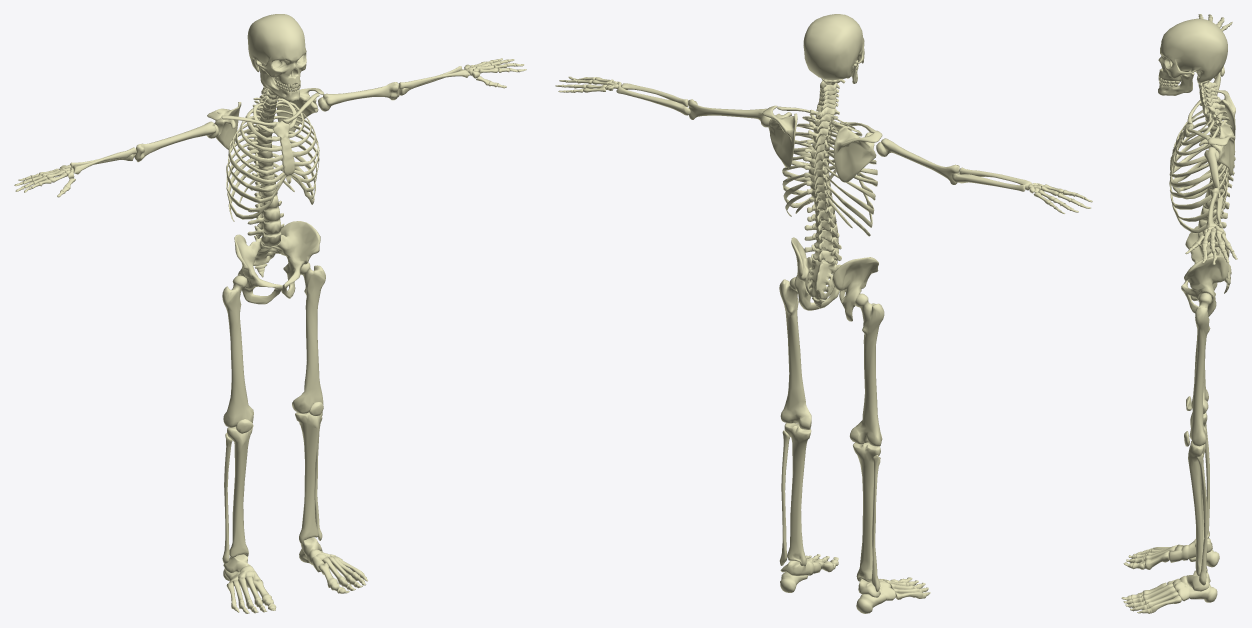
The model's file is asset.glb.
The picture shows the model from 3 angles, left to right: view 1: azimuth 30°, elevation 25°; view 2: azimuth 150°, elevation 25°; view 3: azimuth 270°, elevation 25°; orthographic projection. The views are drawn at different scales.
Visible parts, largest first — view 1: Male_Skeleton_64406.Shape-reduced; view 2: Male_Skeleton_64406.Shape-reduced; view 3: Male_Skeleton_64406.Shape-reduced.
Boxes of the visible parts, bbox=[...] form: Male_Skeleton_64406.Shape-reduced: bbox=[14, 14, 526, 613]; Male_Skeleton_64406.Shape-reduced: bbox=[555, 14, 1092, 613]; Male_Skeleton_64406.Shape-reduced: bbox=[1121, 14, 1237, 613].
Size of the model in its own units: 42348 by 44425 by 8307.
